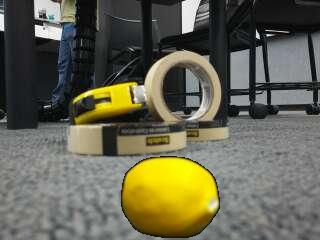lemon: (121, 155, 217, 237)
